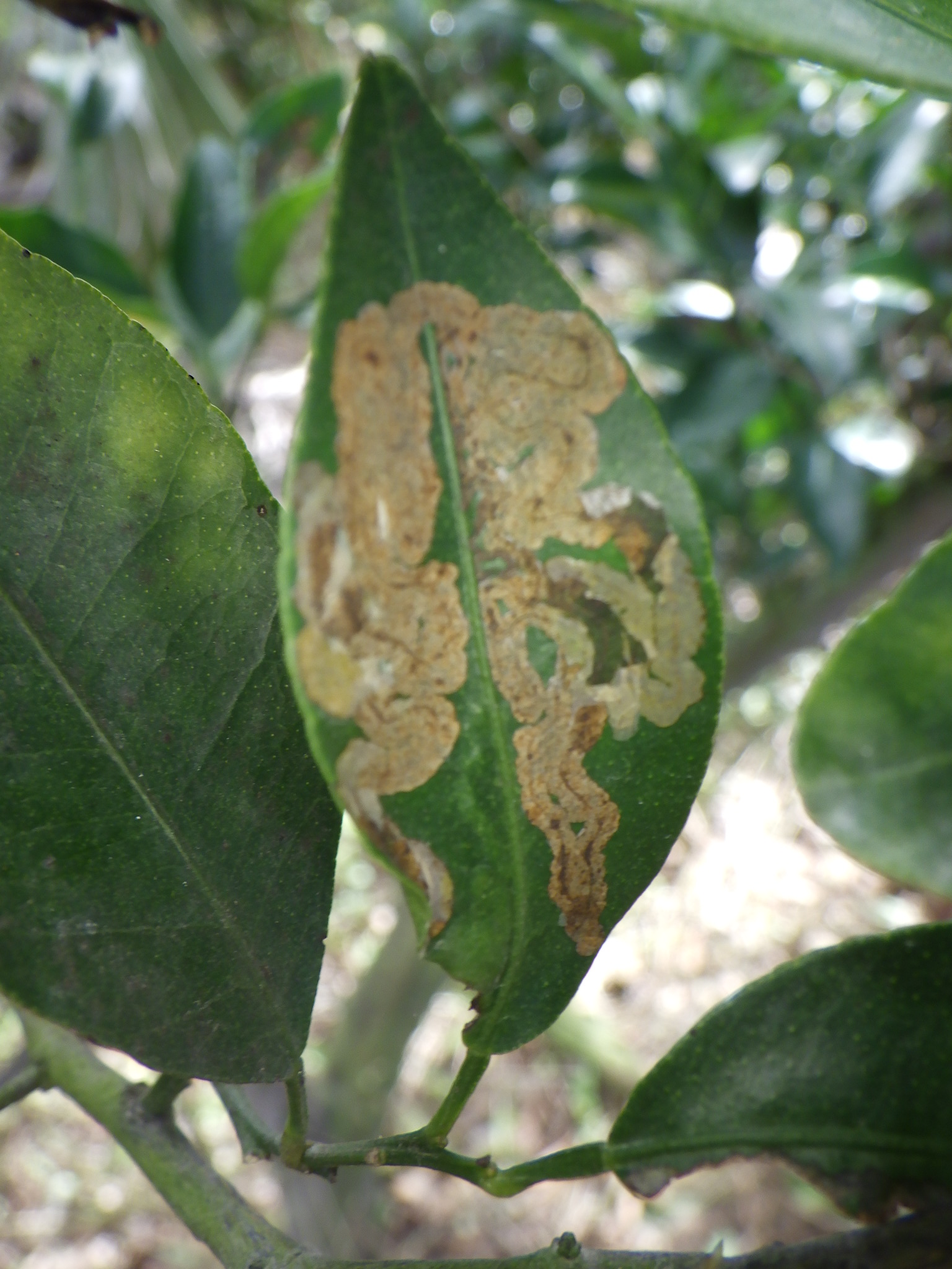Citrus_Leaf_Miner: (293, 281, 705, 957)
